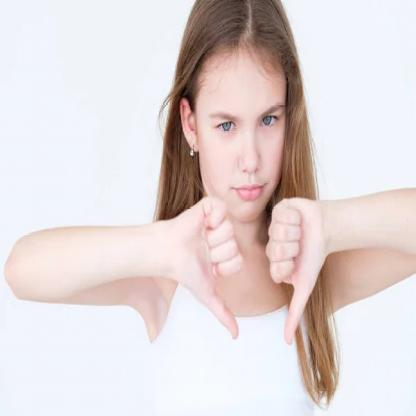thumb_down: (165, 189, 247, 342), (266, 188, 324, 346)
